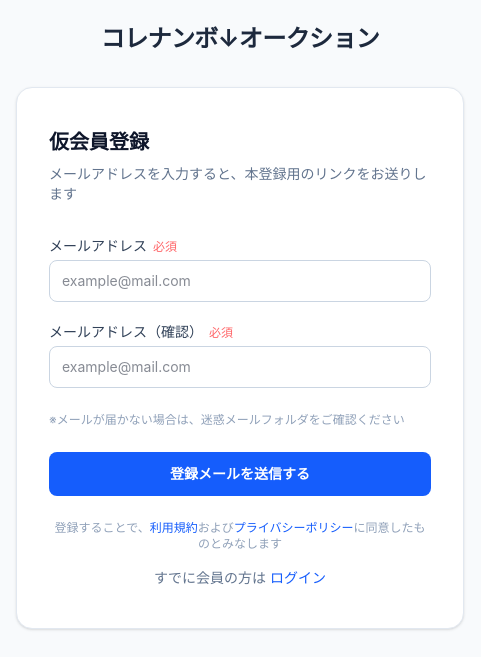
Test: UserRegistrationPage › クライアントサイドバリデーション › 確認用メールアドレスが一致しない場合エラーが表示される
Type "test@example.com" into the field with placeholder "example@mail.com". click: (240, 281)
box: [49,260,431,302]
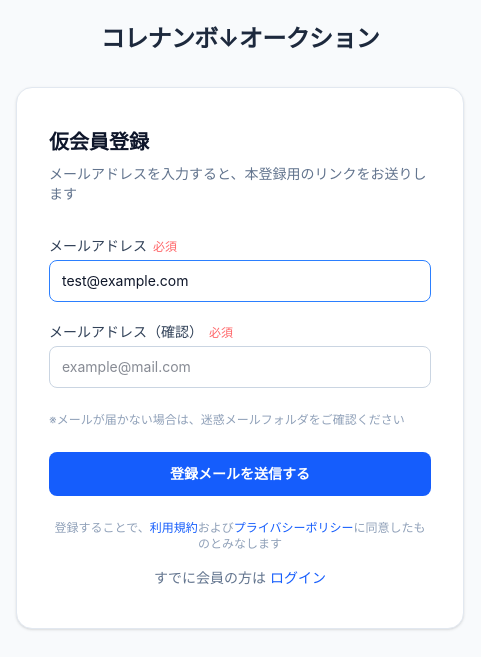
Type "other@example.com" into the field with placeholder "example@mail.com". click: (240, 367)
box: [49,346,431,388]
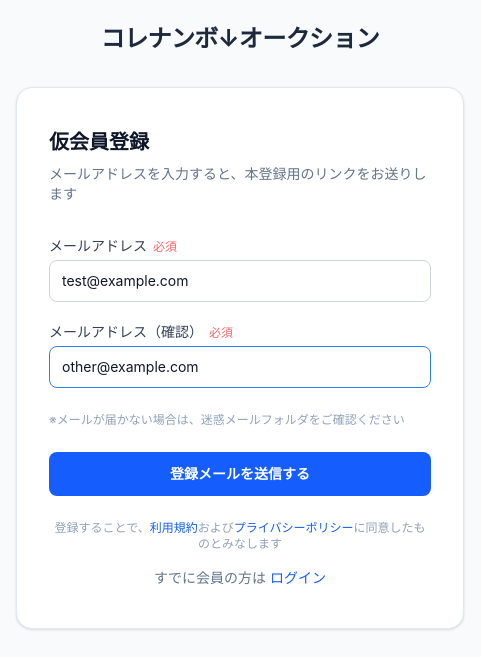
Click the button "登録メールを送信する". click: (240, 474)
box: [49,452,431,496]
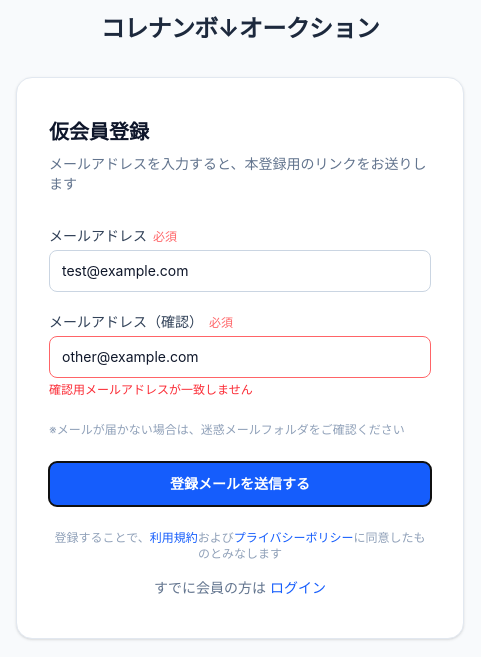
Expected: the text "確認用メールアドレスが一致しません" is shown, [49,382,253,397]
